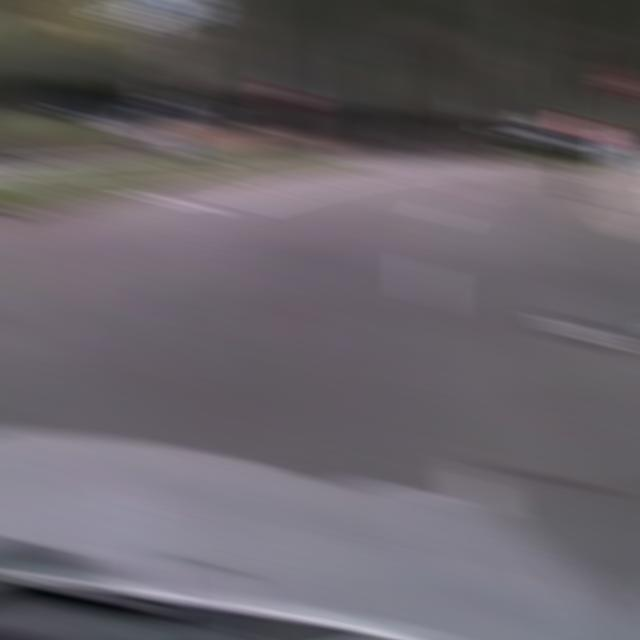stop_sign: (265, 78, 310, 114)
